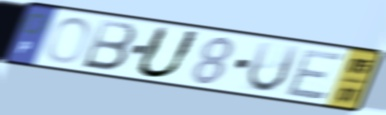8: (191, 34, 237, 86)
B: (79, 17, 139, 73)
E: (283, 47, 348, 101)
O: (45, 15, 94, 65)
U: (132, 24, 204, 80), (244, 39, 303, 94)
